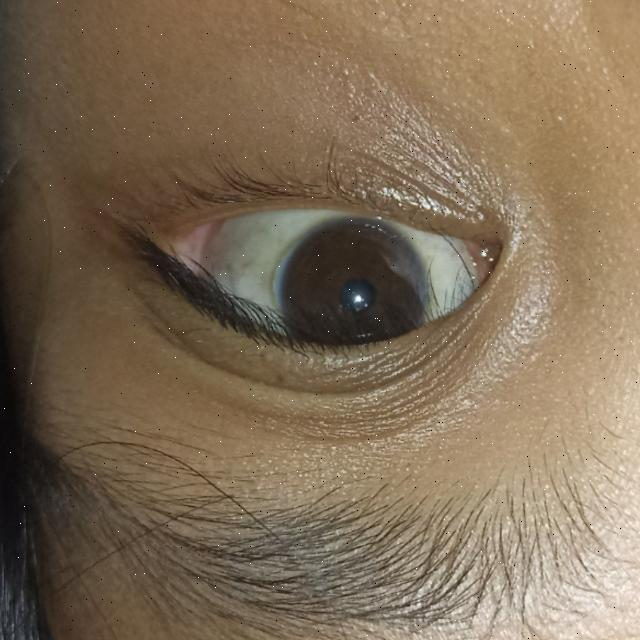Normal: (274, 214, 434, 371)
